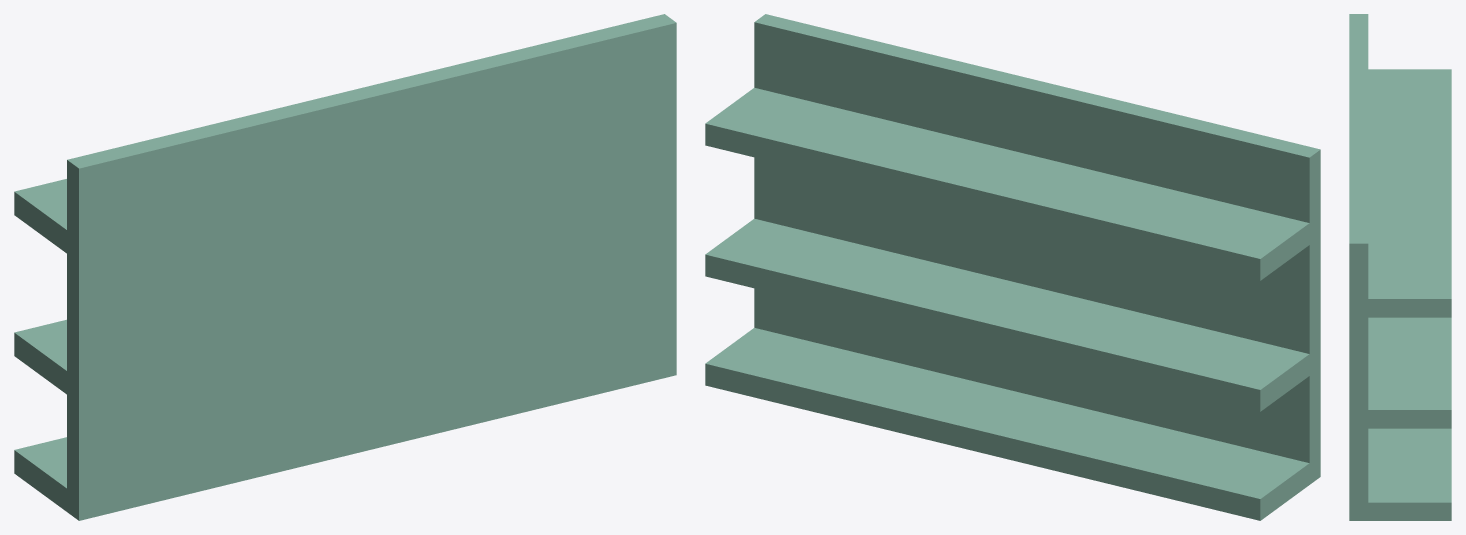
Rendered from Grocery Shelf.fbx.
3 renders of one model, left to right at view 1: azimuth 30°, elevation 25°; view 2: azimuth 150°, elevation 25°; view 3: azimuth 270°, elevation 25°, orthographic. The views are drawn at different scales.
Parts seen in each view (by area): view 1: Plane.056; view 2: Plane.056; view 3: Plane.056.
Part boxes in pixels (x1,y1,x2,y2): Plane.056: (14,14,676,520); Plane.056: (705,14,1320,520); Plane.056: (1349,14,1451,520).
Bounding box in the file's own units: 400 × 225 × 75.27.
